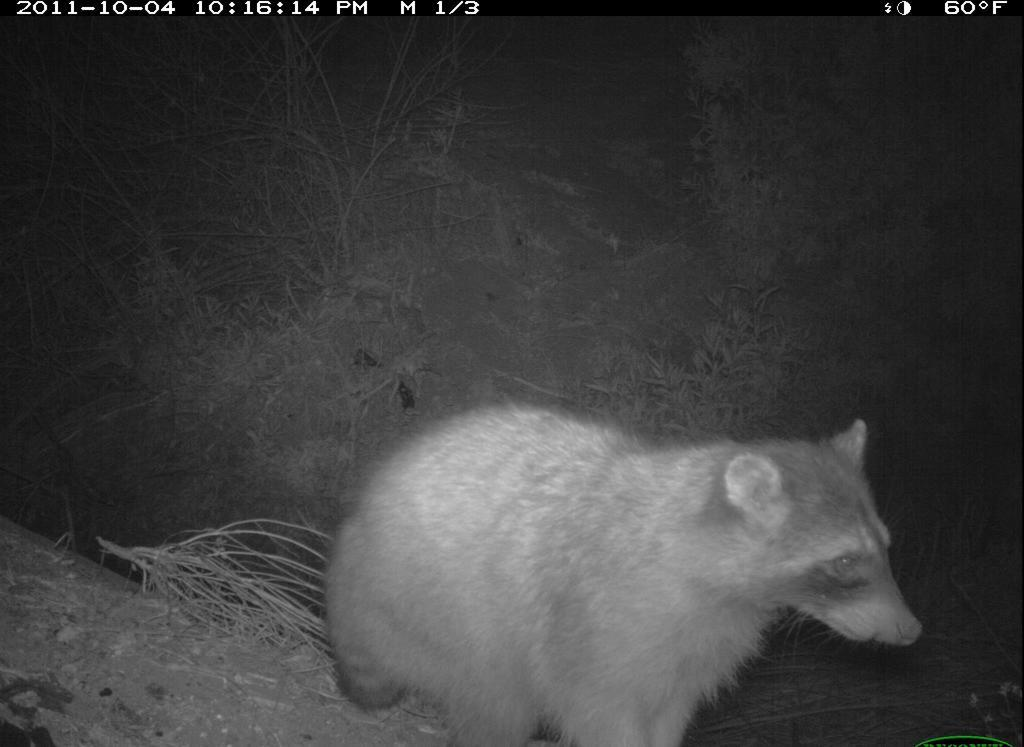raccoon: (285, 386, 940, 747)
